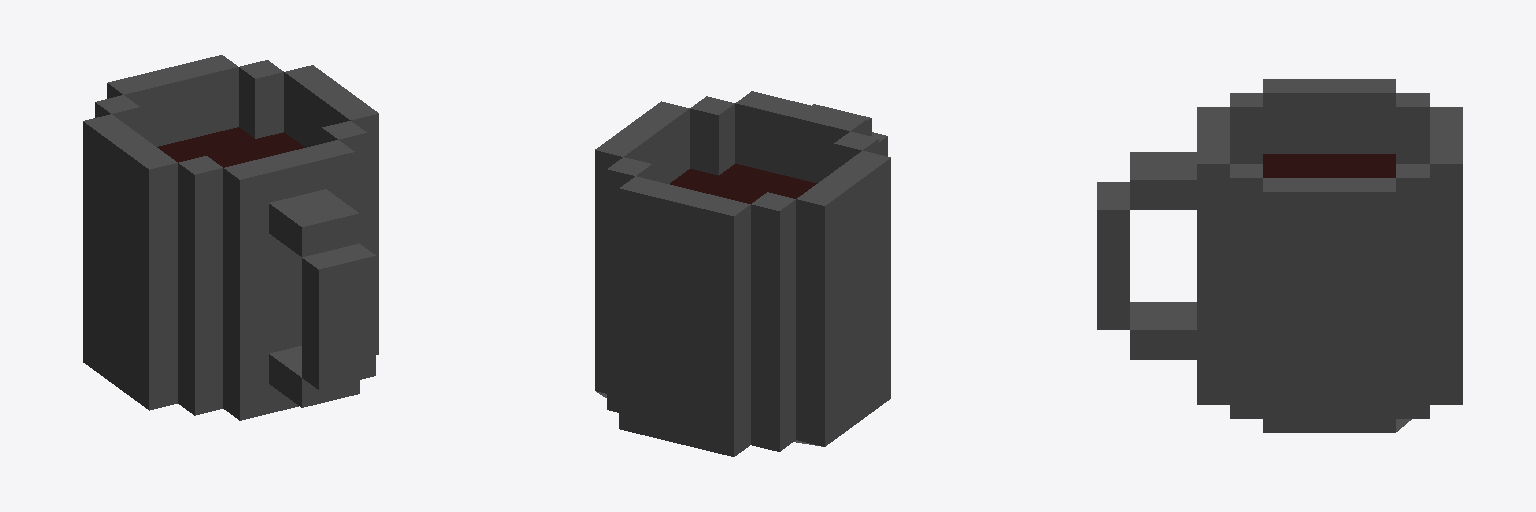
The model's file is CUP.obj.
3 views of the same model, side by side, from view 1: azimuth 30°, elevation 25°; view 2: azimuth 150°, elevation 25°; view 3: azimuth 270°, elevation 25° (orthographic).
Parts seen in each view (by area): view 1: CuP; view 2: CuP; view 3: CuP.
Part boxes in pixels (x1,y1,x2,y2): CuP: (83, 55, 378, 420); CuP: (595, 91, 890, 456); CuP: (1097, 79, 1462, 432).
Bounding box in the file's own units: 0.5 × 0.5 × 0.6875.